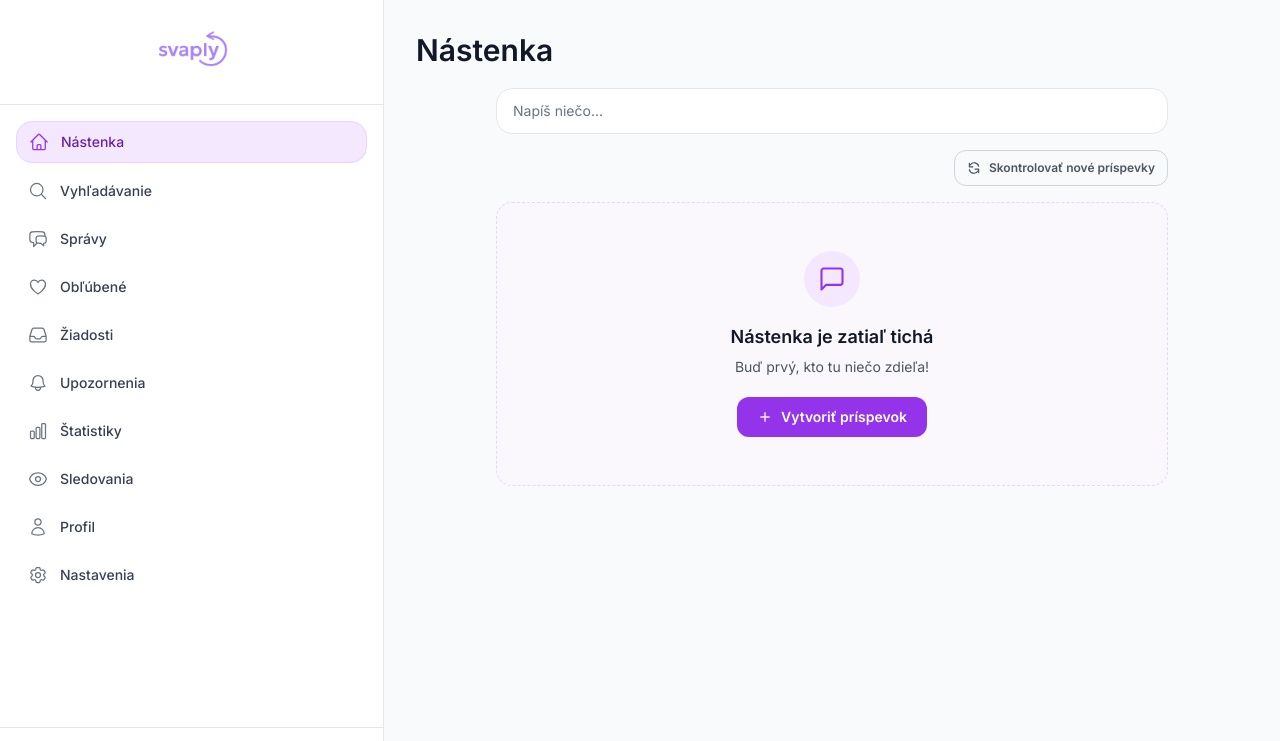
variant 2: vstup cez ľavé menu „Nastavenia" › Upozornenia: pravý panel aj šípka sú vidieť a šípka vedie rovno na Nástenku
Click the button "Nastavenia" at (97, 574), box [16, 555, 367, 595]
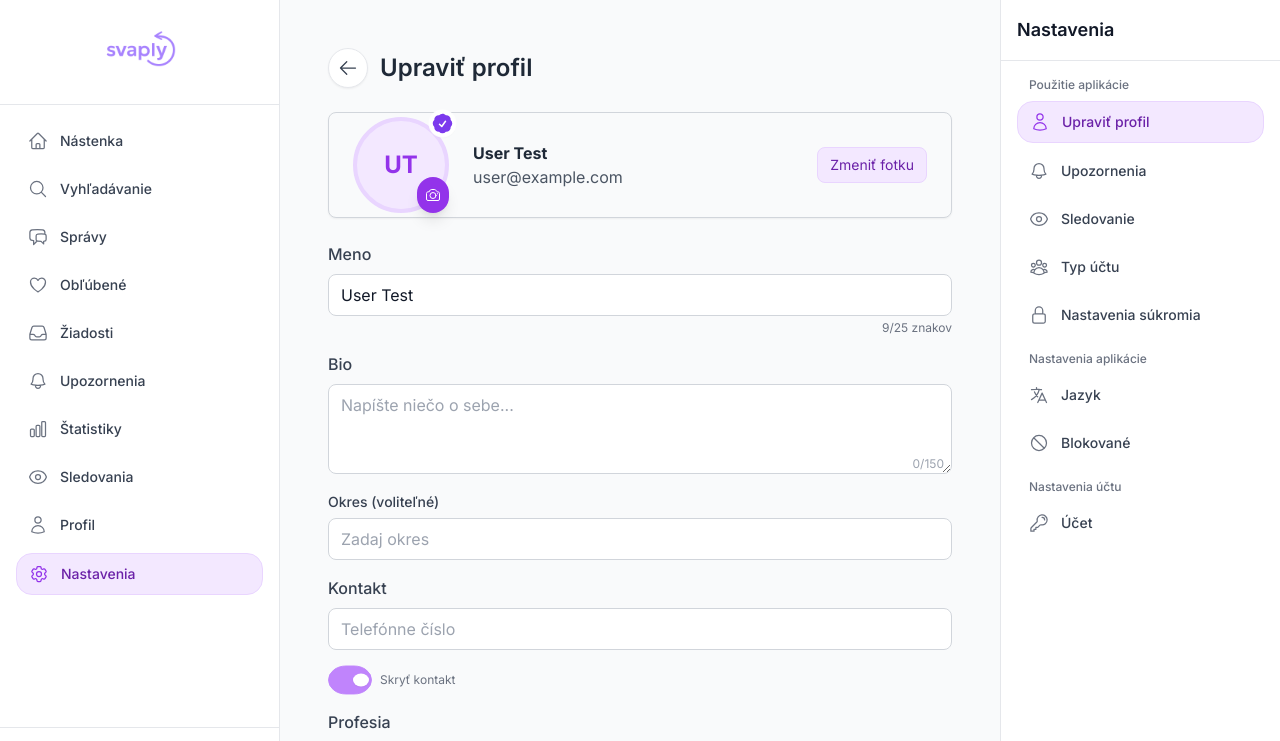
Click the button "Upozornenia" below "Použitie aplikácie" at (1140, 171), box [1017, 151, 1264, 191]
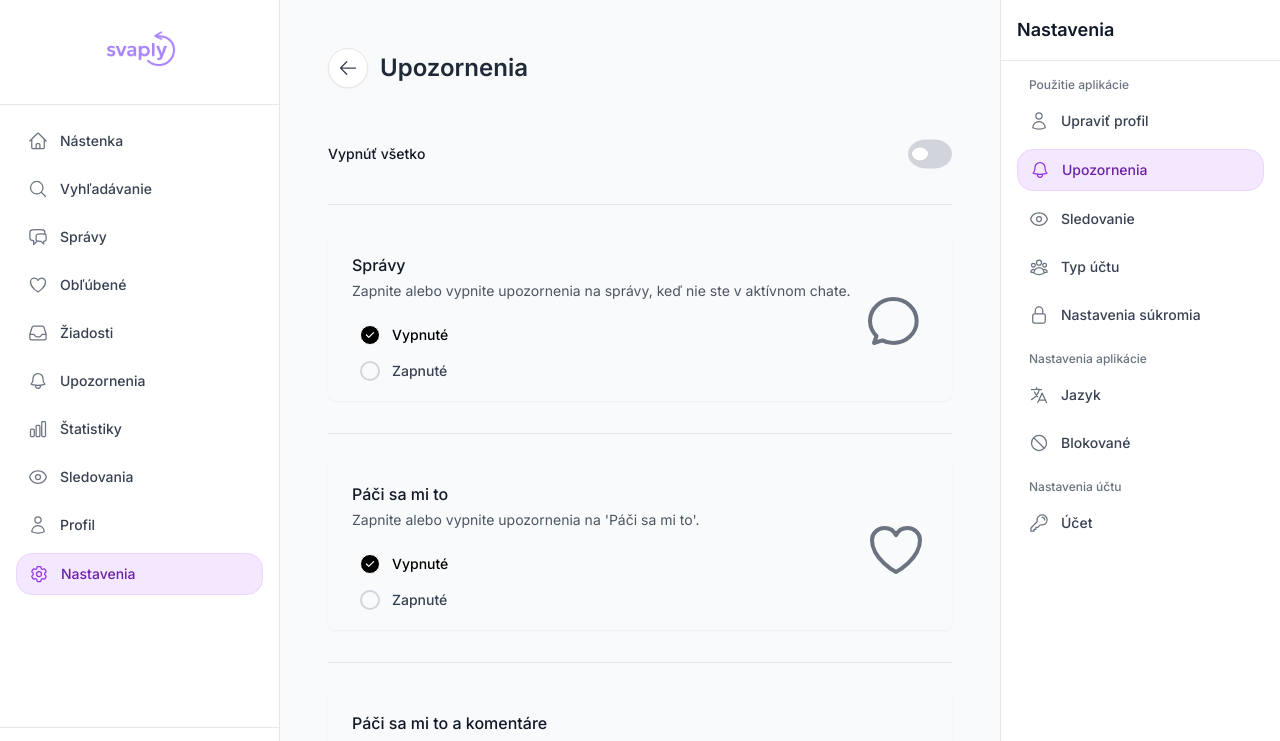
Click the button named "Späť" at (348, 68), box [328, 48, 368, 88]
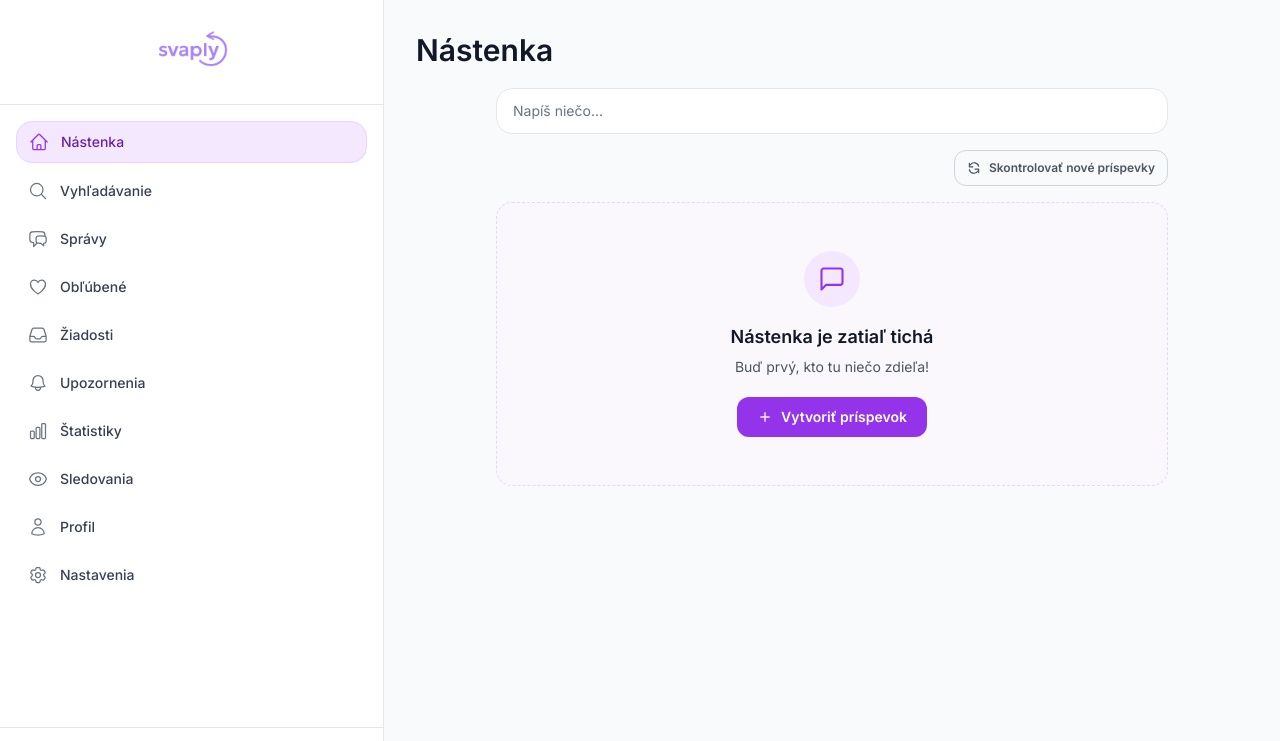
Expected: the heading "Použitie aplikácie" is gone
